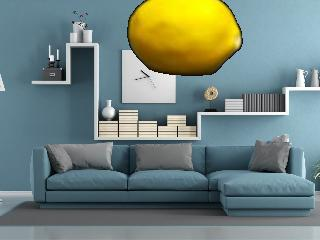lemon: (130, 1, 242, 76)
